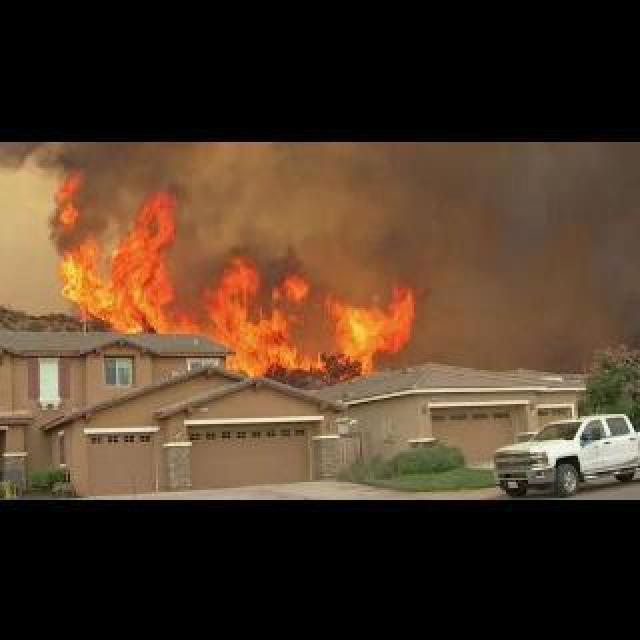smoke: (33, 134, 132, 246), (215, 185, 312, 299)
zfire: (52, 179, 412, 383)
